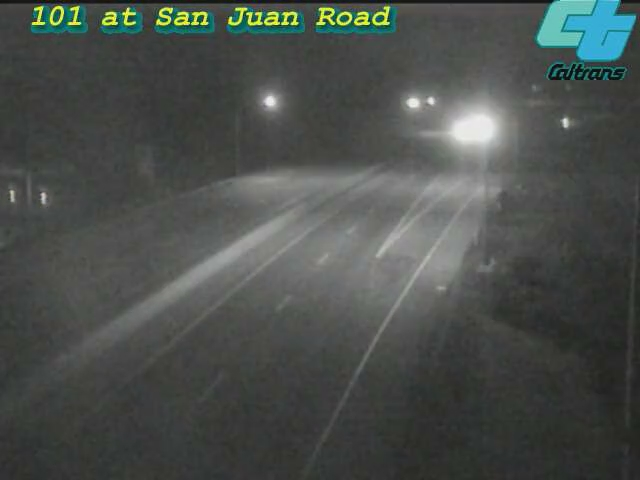vehicle: (542, 98, 592, 148), (438, 106, 488, 156), (454, 103, 504, 153)
